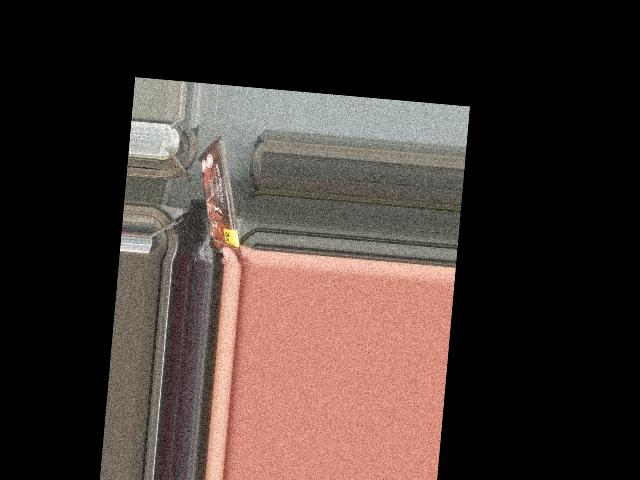chocolate: (190, 135, 250, 253)
